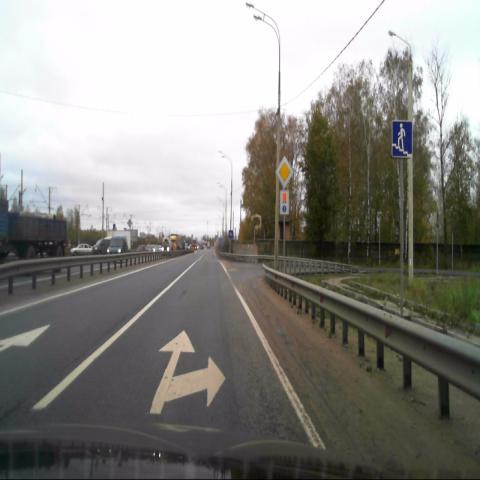6_7: (391, 120, 412, 158)
